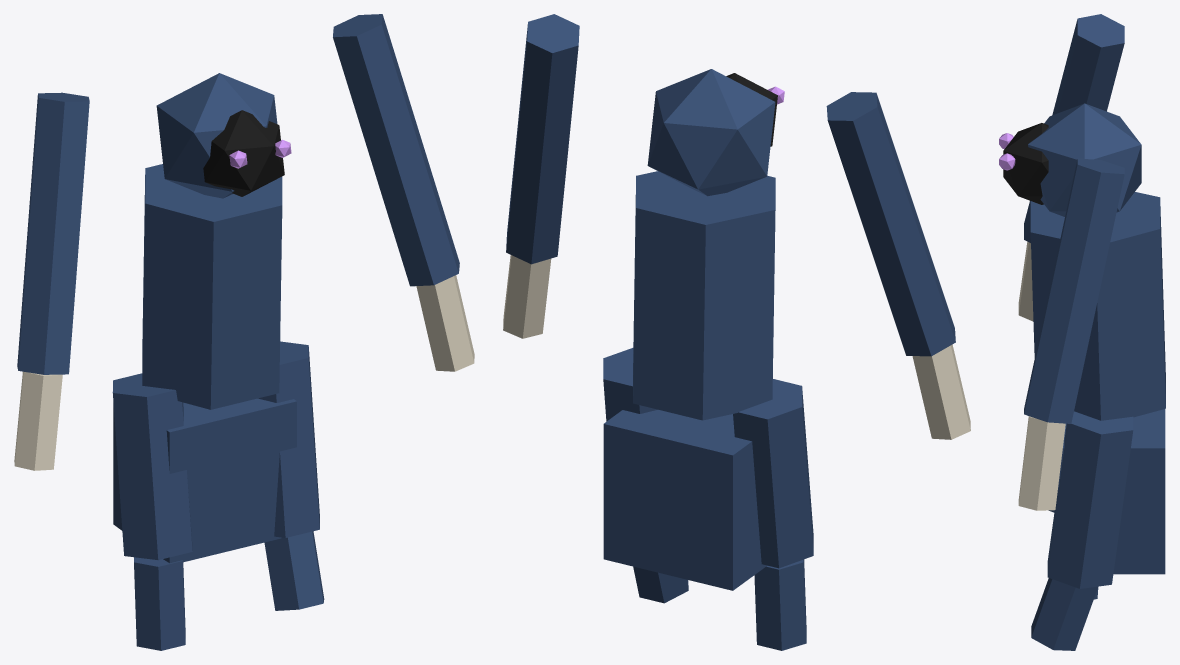
Rendered from npcpose_wraith_walk_06.glb.
3 views of the same model, side by side, from view 1: azimuth 30°, elevation 25°; view 2: azimuth 150°, elevation 25°; view 3: azimuth 270°, elevation 25° (orthographic). The views are drawn at different scales.
Parts seen in each view (by area): view 1: npcpose; view 2: npcpose; view 3: npcpose.
Part boxes in pixels (x1,y1,x2,y2): npcpose: (14, 14, 474, 650); npcpose: (503, 14, 970, 650); npcpose: (999, 14, 1165, 650).
Size of the model in its own units: 0.9388 by 1.1 by 0.3123.
